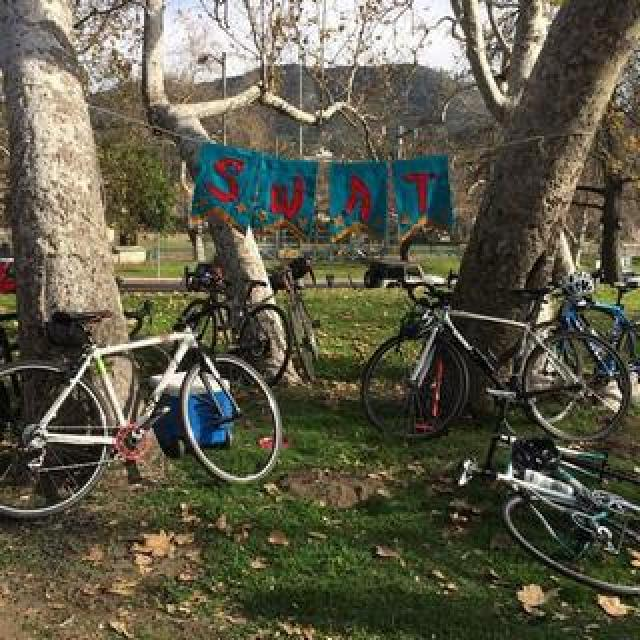Person: (2, 288, 286, 520), (360, 270, 634, 446), (472, 428, 640, 604), (180, 238, 292, 390)
